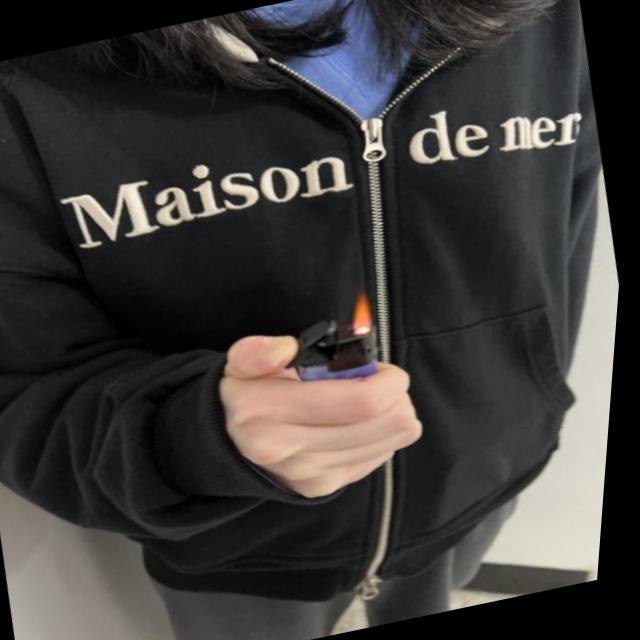Fire: (347, 286, 381, 336)
